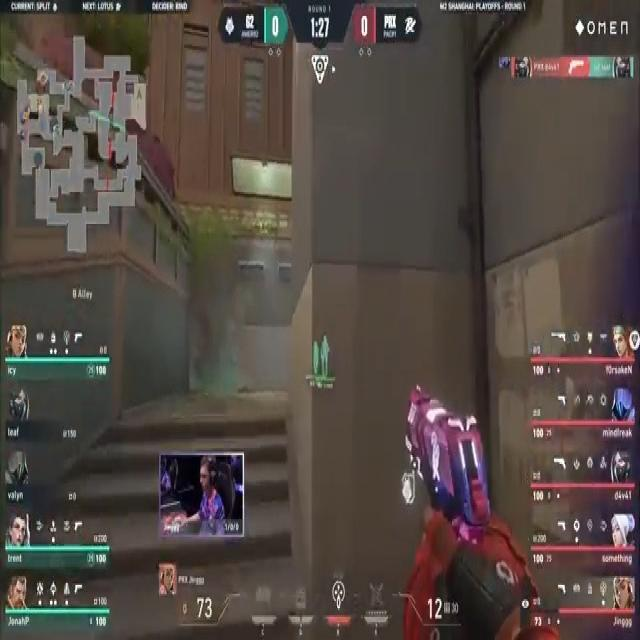ally behind wall: (321, 336, 331, 377), (313, 340, 319, 376)
